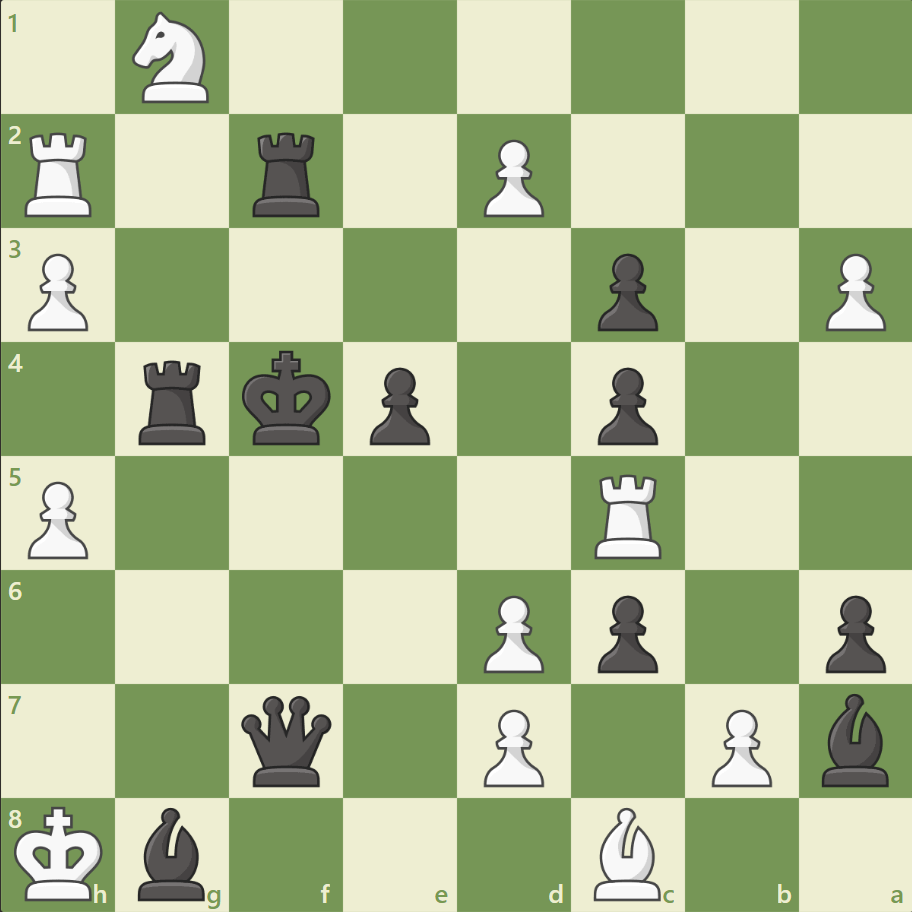B: (585, 801, 669, 904)
K: (11, 798, 111, 906)
N: (124, 7, 222, 110)
P: (701, 700, 776, 791), (474, 700, 549, 791), (474, 586, 549, 677), (20, 473, 95, 564), (20, 246, 95, 337), (474, 132, 549, 223), (815, 246, 889, 337)
R: (587, 466, 670, 563), (19, 125, 102, 222)
b: (131, 801, 215, 904), (812, 687, 896, 790)
k: (238, 344, 338, 452)
p: (815, 586, 889, 677), (588, 586, 662, 677), (588, 359, 662, 450), (361, 359, 435, 450), (588, 246, 662, 337)
q: (237, 690, 336, 789)
r: (246, 125, 329, 222), (133, 352, 215, 449)
